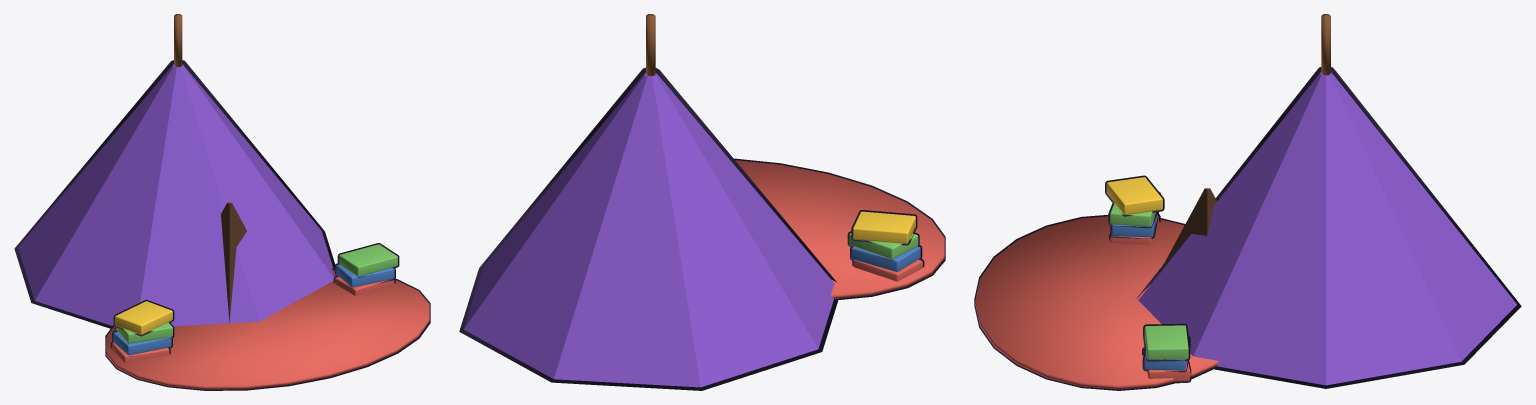
The model's file is library_1.glb.
3 renders of one model, left to right at view 1: azimuth 30°, elevation 25°; view 2: azimuth 150°, elevation 25°; view 3: azimuth 270°, elevation 25°, orthographic. The views are drawn at different scales.
Parts seen in each view (by area): view 1: tent, rug, box.003, box.006, door, box.005, box.001, box.002, box, box.004, pole; view 2: tent, rug, box.003, box.001, box.002, box, pole; view 3: tent, rug, box.003, box.006, door, box.002, box.001, pole, box.005, box.004.
Part boxes in pixels (x1=…): tent: x1=14, y1=60, x2=335, y2=328; rug: x1=105, y1=268, x2=430, y2=390; box.003: x1=113, y1=299, x2=174, y2=336; box.006: x1=337, y1=243, x2=399, y2=277; door: x1=221, y1=202, x2=246, y2=322; box.005: x1=335, y1=263, x2=395, y2=288; box.001: x1=112, y1=330, x2=172, y2=356; box.002: x1=114, y1=322, x2=174, y2=343; box: x1=110, y1=342, x2=170, y2=362; box.004: x1=333, y1=275, x2=395, y2=295; pole: x1=174, y1=14, x2=182, y2=66; tent: x1=459, y1=67, x2=838, y2=390; rug: x1=734, y1=158, x2=945, y2=300; box.003: x1=851, y1=210, x2=917, y2=245; box.001: x1=850, y1=245, x2=922, y2=271; box.002: x1=847, y1=231, x2=919, y2=260; box: x1=852, y1=258, x2=924, y2=281; pole: x1=646, y1=14, x2=655, y2=75; tent: x1=1136, y1=67, x2=1521, y2=388; rug: x1=974, y1=215, x2=1218, y2=390; box.003: x1=1105, y1=175, x2=1164, y2=216; box.006: x1=1143, y1=323, x2=1190, y2=361; door: x1=1157, y1=188, x2=1216, y2=276; box.002: x1=1108, y1=192, x2=1160, y2=228; box.001: x1=1110, y1=212, x2=1158, y2=238; pole: x1=1321, y1=14, x2=1330, y2=75; box.005: x1=1142, y1=335, x2=1190, y2=372; box.004: x1=1142, y1=347, x2=1191, y2=383.
Size of the model in its own units: 2.53 by 2.03 by 3.43.
